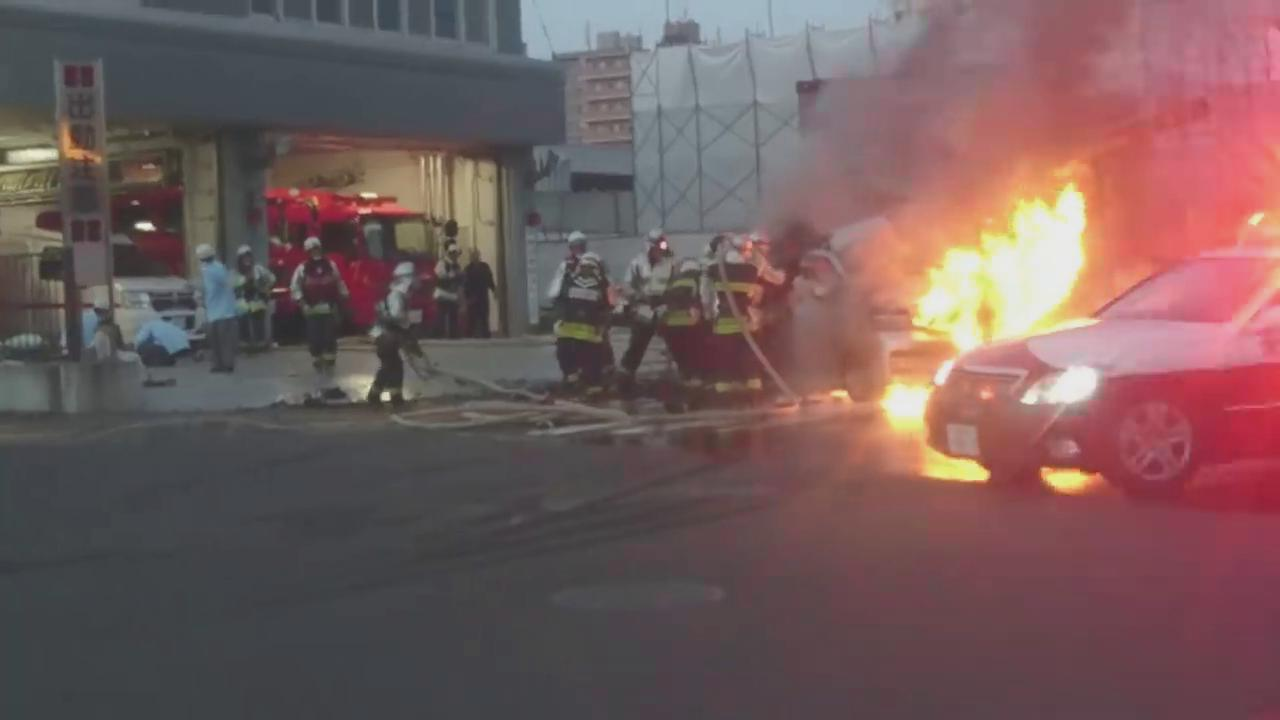Fire: (914, 177, 1103, 346), (885, 352, 962, 436), (916, 446, 991, 484), (1040, 468, 1093, 492)
